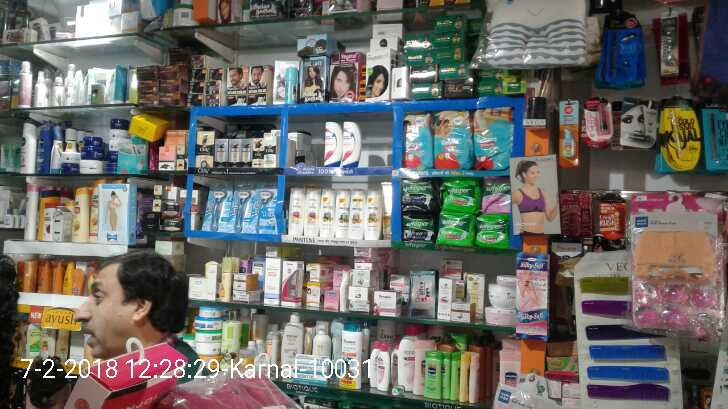venus: (204, 191, 232, 231), (254, 189, 280, 230), (232, 191, 254, 230)
